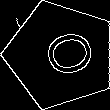O_W: (28, 27, 93, 83)
